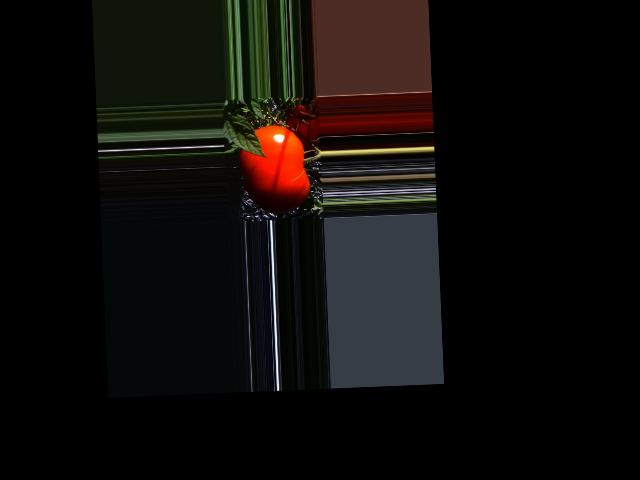tomato: (237, 123, 311, 214)
